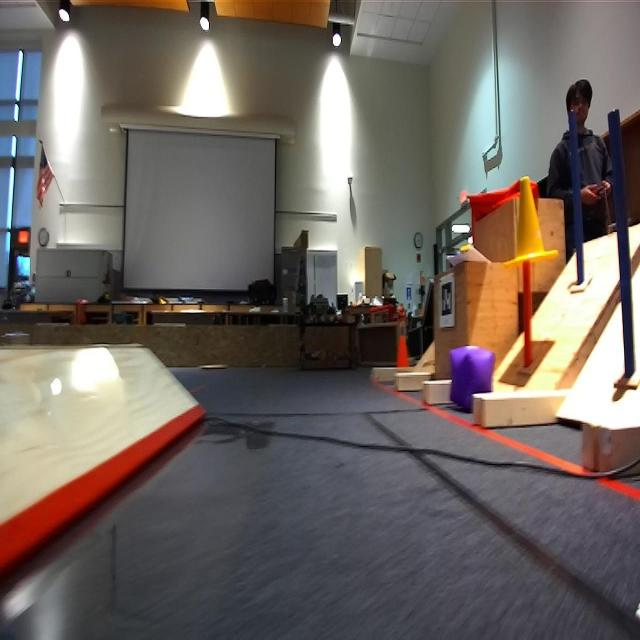frc_cone: (503, 174, 554, 271)
frc_cube: (451, 343, 495, 411)
